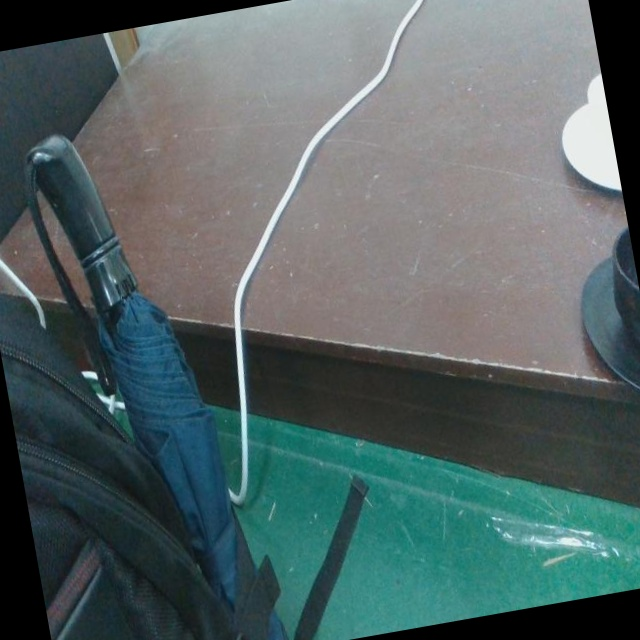black: (580, 224, 640, 408)
white: (560, 71, 612, 203)
